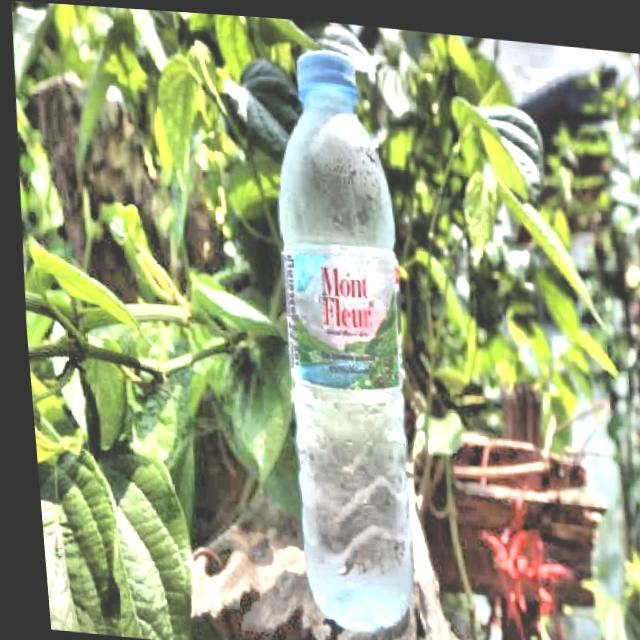Bottles: (229, 28, 447, 640)
